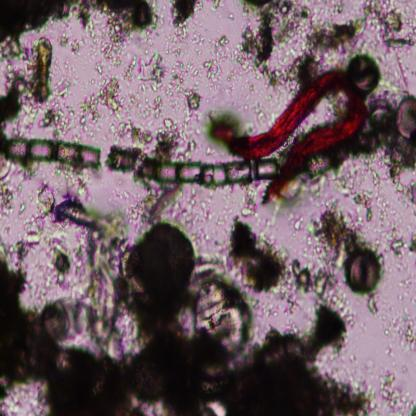Background material: (124, 309, 380, 415), (0, 254, 126, 414), (27, 184, 128, 346), (178, 262, 255, 372), (224, 200, 292, 300), (233, 0, 310, 82), (0, 37, 56, 135), (364, 97, 416, 180), (74, 0, 161, 46), (309, 206, 357, 268), (291, 254, 344, 308), (0, 0, 75, 38), (304, 15, 366, 59), (364, 0, 416, 52), (78, 77, 128, 128), (40, 231, 81, 290), (336, 164, 374, 224), (128, 186, 183, 224), (136, 54, 162, 127), (280, 45, 320, 91), (155, 116, 195, 160), (381, 370, 416, 416), (386, 304, 416, 355), (166, 60, 198, 105), (0, 158, 23, 220), (168, 0, 201, 41), (181, 191, 213, 233), (42, 104, 79, 137), (94, 38, 126, 74), (61, 170, 90, 207), (382, 222, 408, 263), (372, 171, 393, 221), (110, 121, 151, 146), (182, 86, 203, 119), (240, 186, 260, 217), (397, 181, 416, 211), (204, 57, 222, 88), (59, 34, 85, 51), (56, 74, 73, 100), (214, 36, 230, 61), (124, 54, 137, 81), (290, 211, 305, 233), (254, 102, 267, 123), (366, 293, 378, 315), (193, 33, 207, 51), (331, 0, 344, 16), (408, 232, 416, 255), (211, 0, 225, 13), (228, 12, 236, 20)
Cotton: (214, 69, 366, 200)
Diatom: (106, 145, 278, 188), (132, 224, 197, 303), (0, 133, 103, 171), (344, 246, 380, 296), (352, 53, 382, 94), (395, 94, 416, 140)
